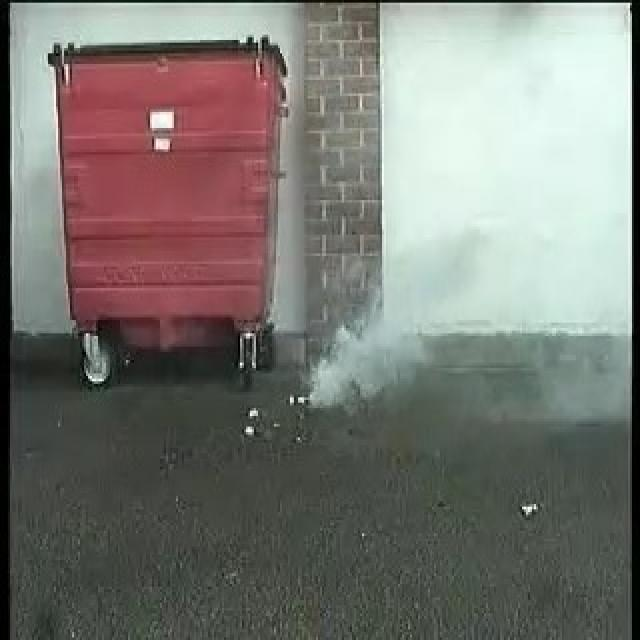smoke: (308, 248, 466, 408)
